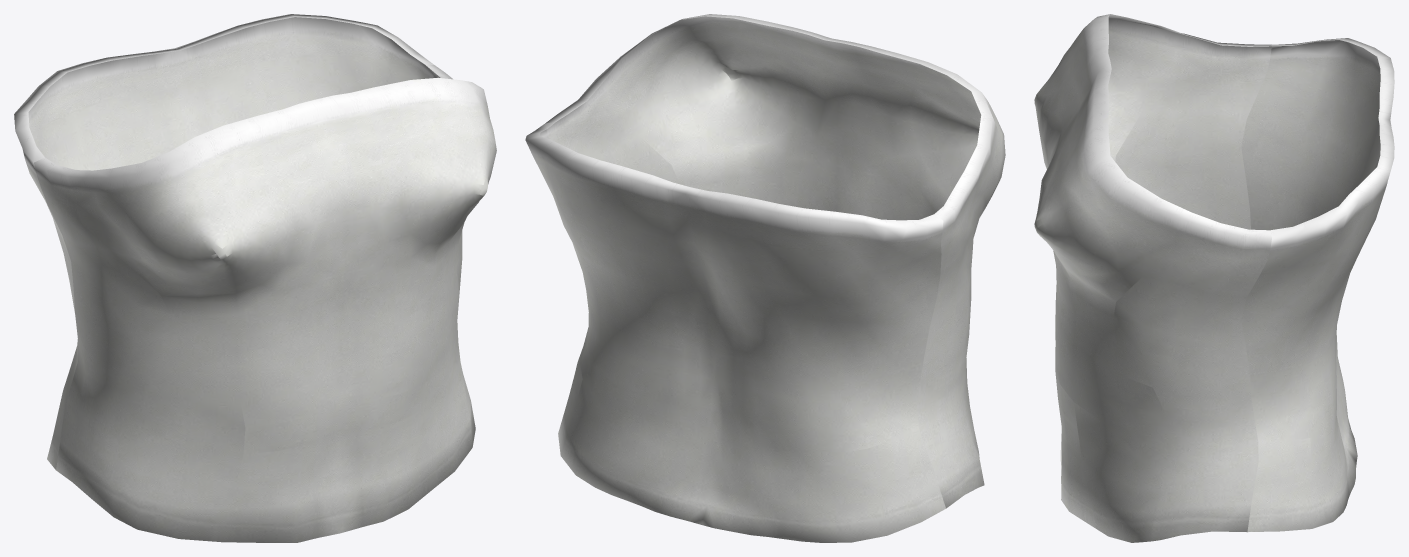
Rendered from punkduck-tube-top.glb.
3 renders of one model, left to right at view 1: azimuth 30°, elevation 25°; view 2: azimuth 150°, elevation 25°; view 3: azimuth 270°, elevation 25°, orthographic.
Visible parts, largest first — view 1: tube top; view 2: tube top; view 3: tube top.
Boxes of the visible parts, box(x1,y1,x2,y2) form: tube top: box(14, 14, 496, 542); tube top: box(525, 14, 1005, 542); tube top: box(1034, 14, 1394, 542).
Bounding box in the file's own units: 29.35 × 29.29 × 23.07.
1 material, 1 textured.
